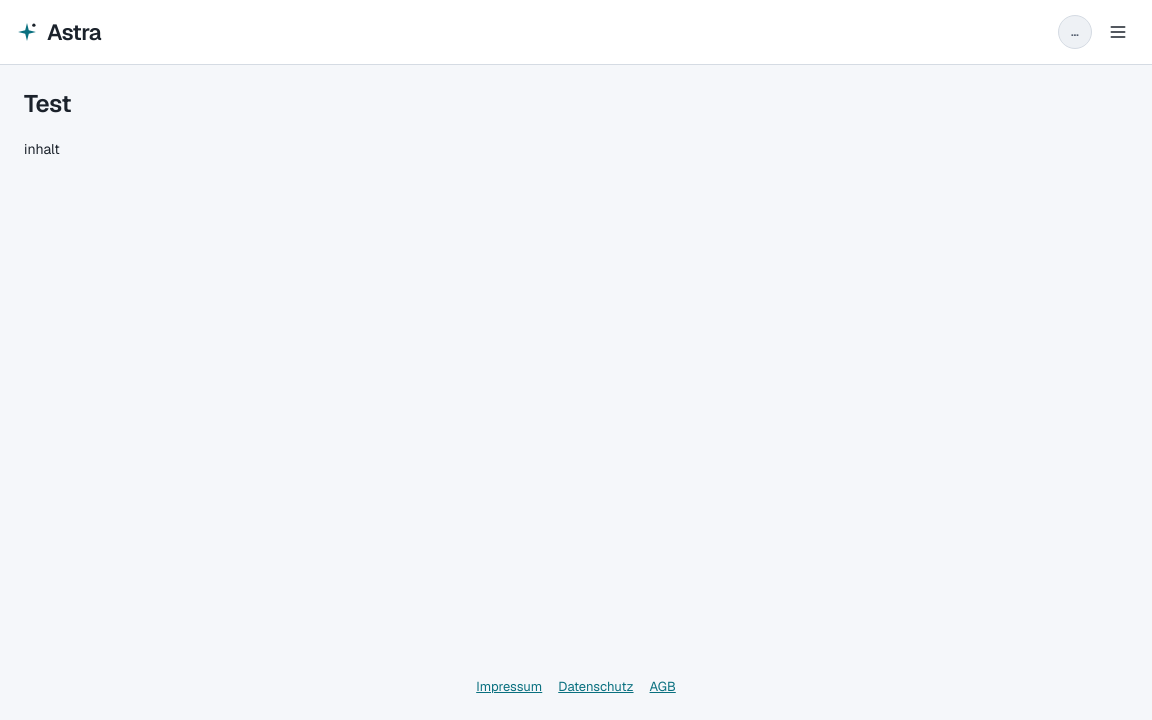
Scenario: Mobile Kopfzeile › öffnet ein Vollbild-Menü mit 44-px-Hamburger, Navigation und Abmelden; Escape schliesst
Click the button named "Menü öffnen".
click(1118, 32)  # box top-left (1096, 10), bottom-right (1140, 54)
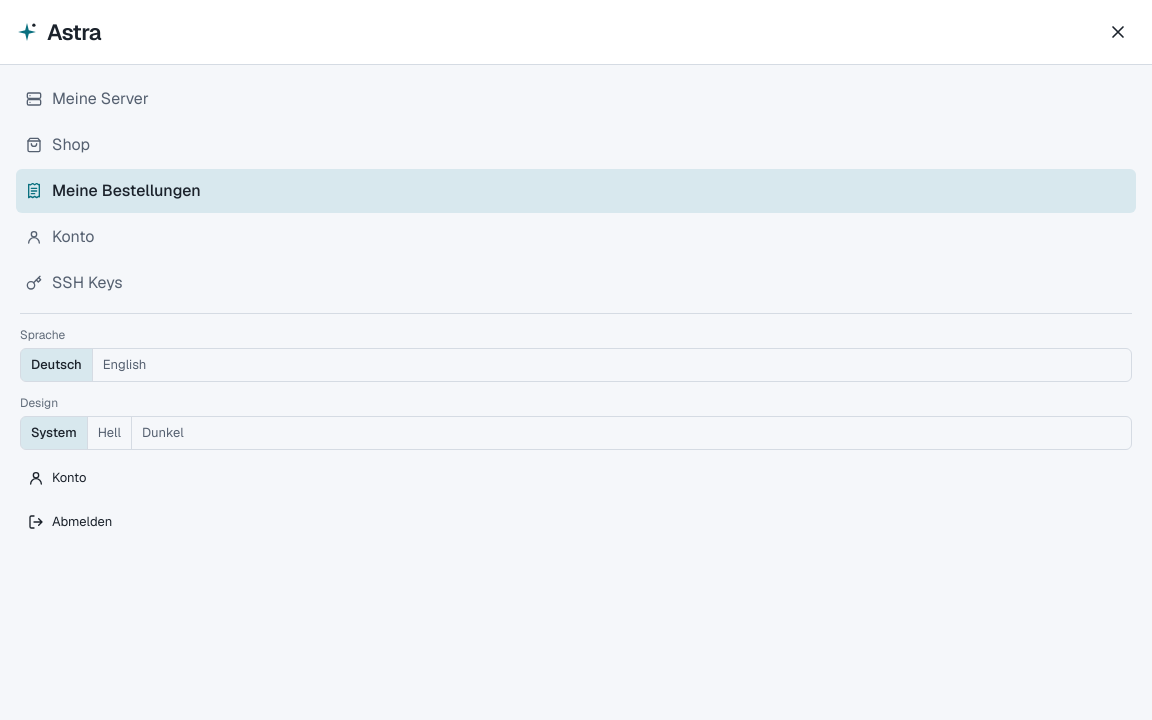
Expected: the link "Shop" is shown, top-left (26, 134), bottom-right (90, 155)
Expected: the button "Abmelden" is shown, top-left (20, 506), bottom-right (1132, 538)
Press Escape
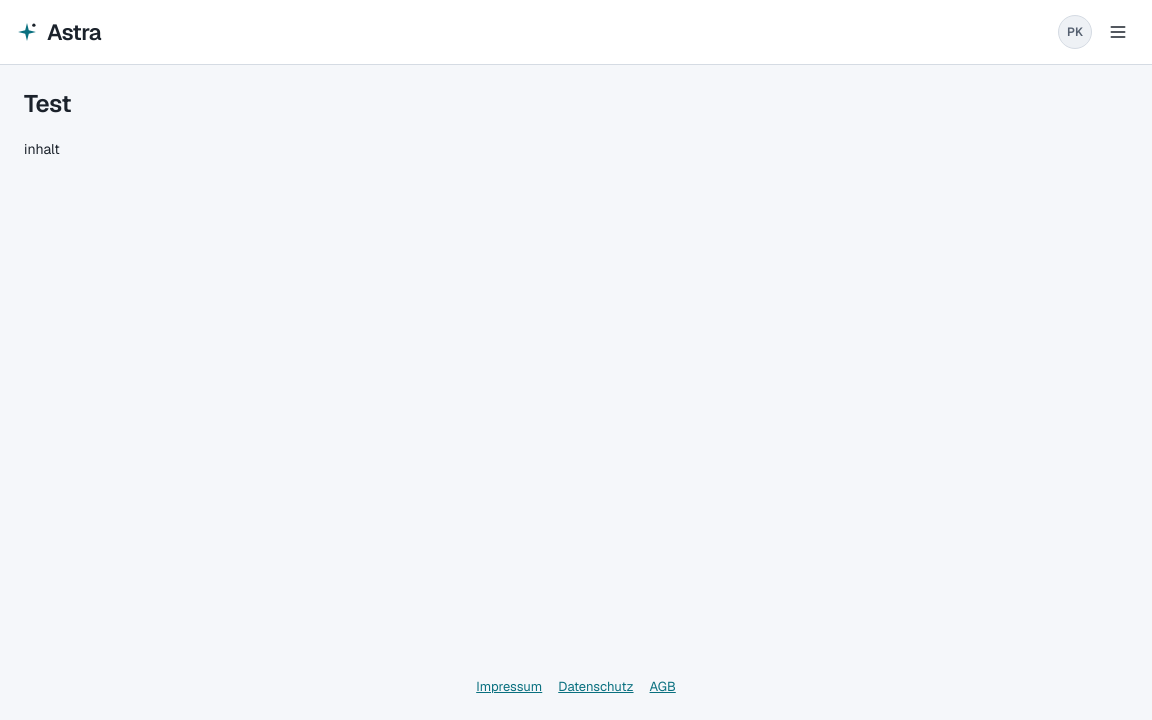
Expected: the dialog is gone
Expected: the text "PK" is shown, top-left (1058, 15), bottom-right (1092, 49)
